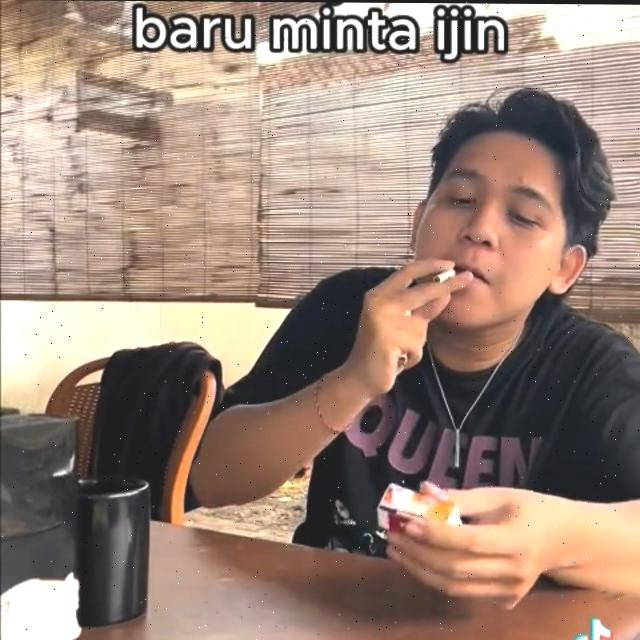cigarette: (432, 269, 456, 283)
